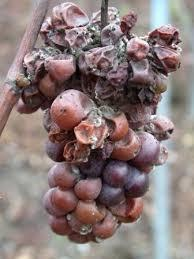Grape Overripe: (18, 0, 179, 242)
